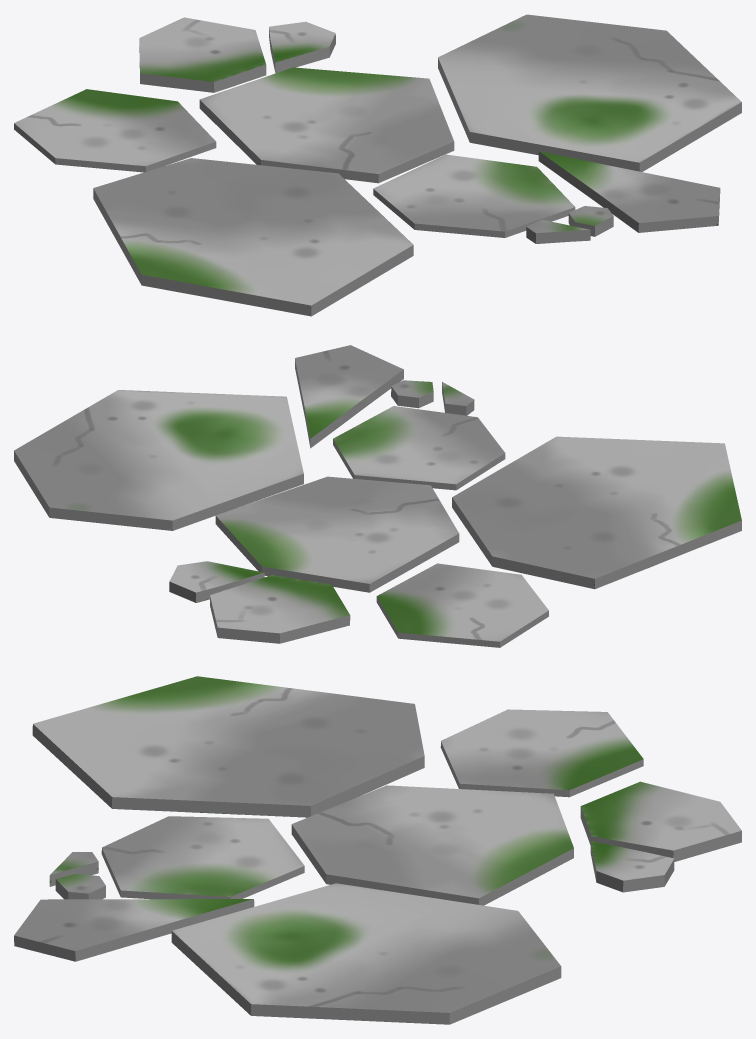
File: Petite dalle2.fbx
The picture shows the model from 3 angles, top to bottom: view 1: azimuth 30°, elevation 25°; view 2: azimuth 150°, elevation 25°; view 3: azimuth 270°, elevation 25°; orthographic projection. The views are drawn at different scales.
Visible parts, largest first — view 1: Cercle.010; view 2: Cercle.010; view 3: Cercle.010.
Boxes of the visible parts, x1=… form: Cercle.010: x1=14, y1=14, x2=741, y2=316; Cercle.010: x1=14, y1=345, x2=741, y2=647; Cercle.010: x1=14, y1=676, x2=741, y2=1024.
Bounding box in the file's own units: 410 × 7.75 × 373.
